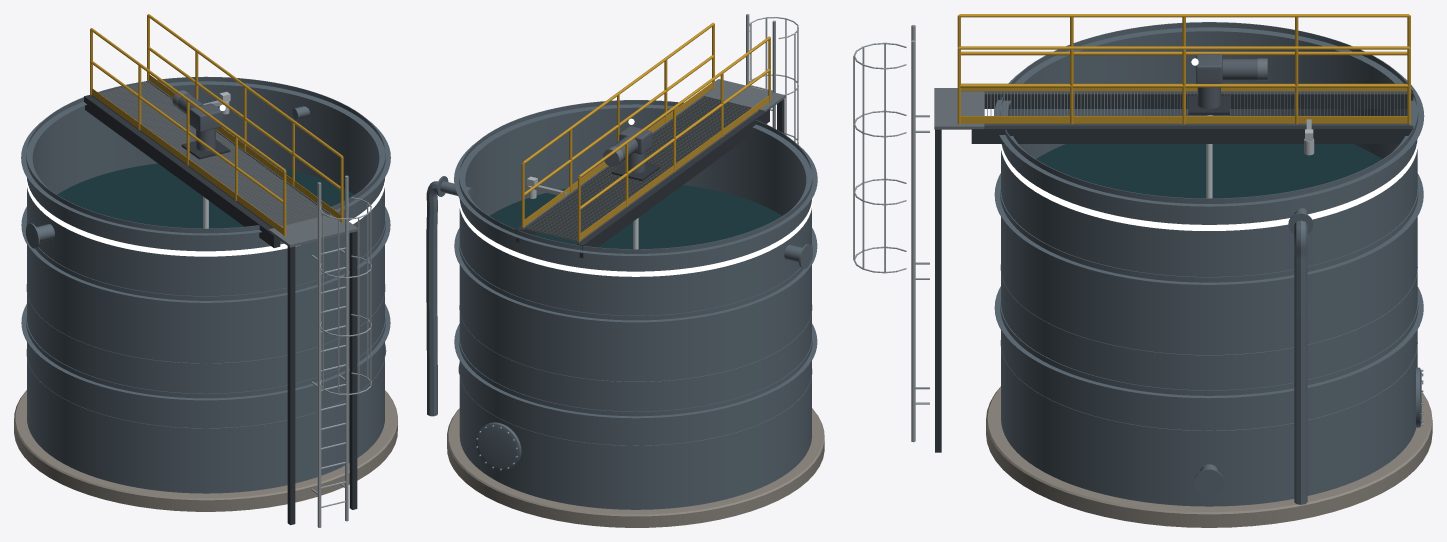
Rendered from tank.glb.
The picture shows the model from 3 angles, left to right: view 1: azimuth 30°, elevation 25°; view 2: azimuth 150°, elevation 25°; view 3: azimuth 270°, elevation 25°; orthographic projection. The views are drawn at different scales.
Parts seen in each view (by area): view 1: BODY_shell, BODY_bridge, BODY_foundation, WATER_surface, ladder, BODY_mixer, STATUS_BAND, nozzles; view 2: BODY_shell, BODY_bridge, BODY_foundation, WATER_surface, hardware, STATUS_BAND, ladder, BODY_mixer, nozzles; view 3: BODY_shell, BODY_bridge, WATER_surface, BODY_foundation, ladder, hardware, BODY_mixer, STATUS_BAND, nozzles.
Part boxes in pixels (<box>): BODY_shell: <box>21,76,390,493</box>; BODY_bridge: <box>84,14,357,525</box>; BODY_foundation: <box>14,390,397,511</box>; WATER_surface: <box>57,163,354,228</box>; ladder: <box>311,175,371,527</box>; BODY_mixer: <box>172,90,230,159</box>; STATUS_BAND: <box>26,177,385,256</box>; nozzles: <box>25,106,386,355</box>; BODY_shell: <box>454,100,817,509</box>; BODY_bridge: <box>516,22,785,257</box>; BODY_foundation: <box>447,408,824,527</box>; WATER_surface: <box>489,185,781,249</box>; hardware: <box>426,181,517,470</box>; STATUS_BAND: <box>459,198,812,276</box>; ladder: <box>746,14,798,144</box>; BODY_mixer: <box>603,126,659,181</box>; nozzles: <box>436,176,812,374</box>; BODY_shell: <box>994,22,1424,506</box>; BODY_bridge: <box>934,14,1413,452</box>; WATER_surface: <box>1036,144,1382,198</box>; BODY_foundation: <box>986,386,1432,527</box>; ladder: <box>853,25,929,442</box>; hardware: <box>1294,220,1423,504</box>; BODY_mixer: <box>1188,54,1267,114</box>; STATUS_BAND: <box>1000,138,1417,230</box>; nozzles: <box>1194,208,1313,496</box>.
Bounding box in the file's own units: 5.6 × 5.34 × 6.95.
